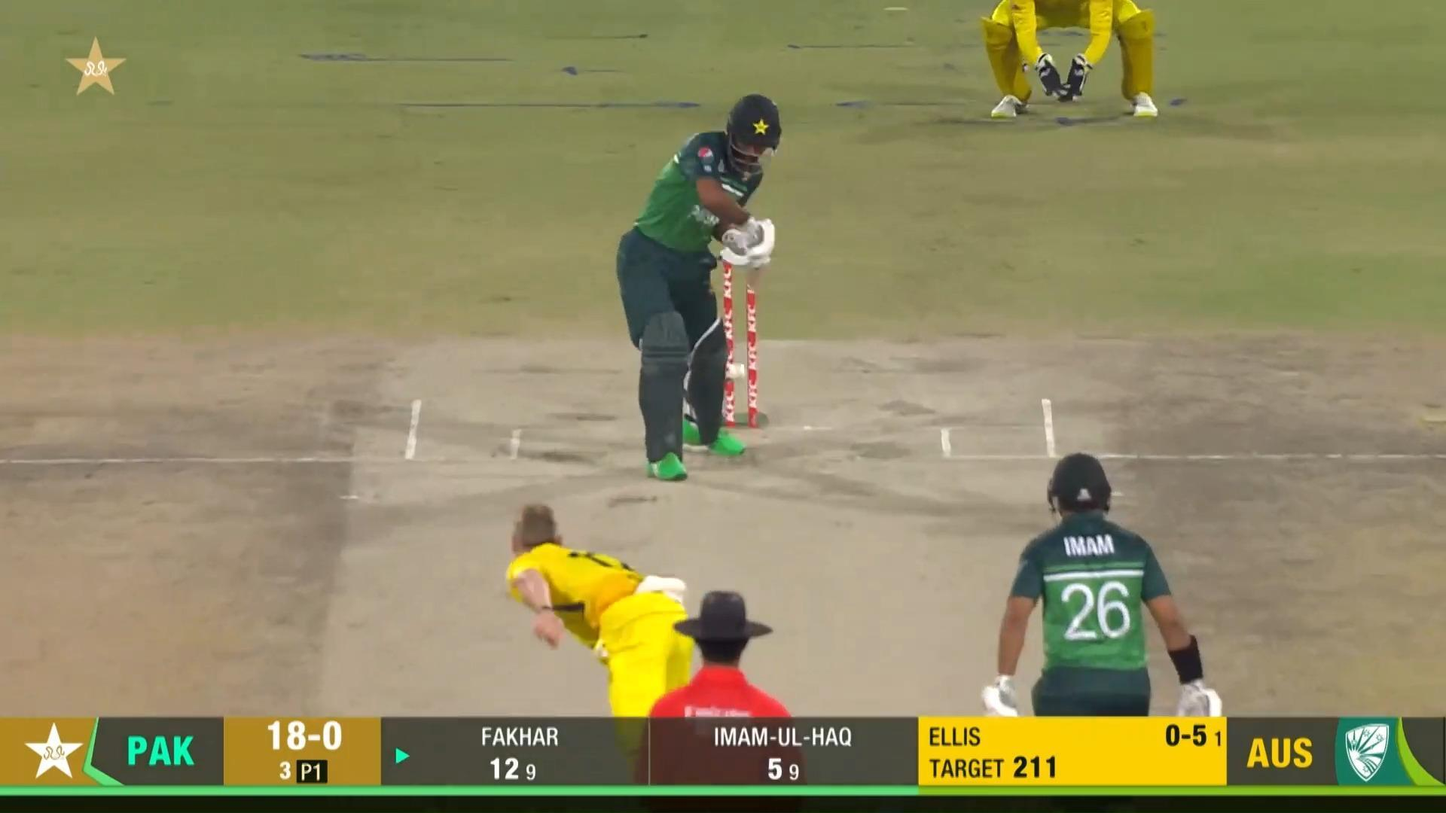BM 1: (615, 92, 783, 482)
BO: (501, 500, 692, 747)
